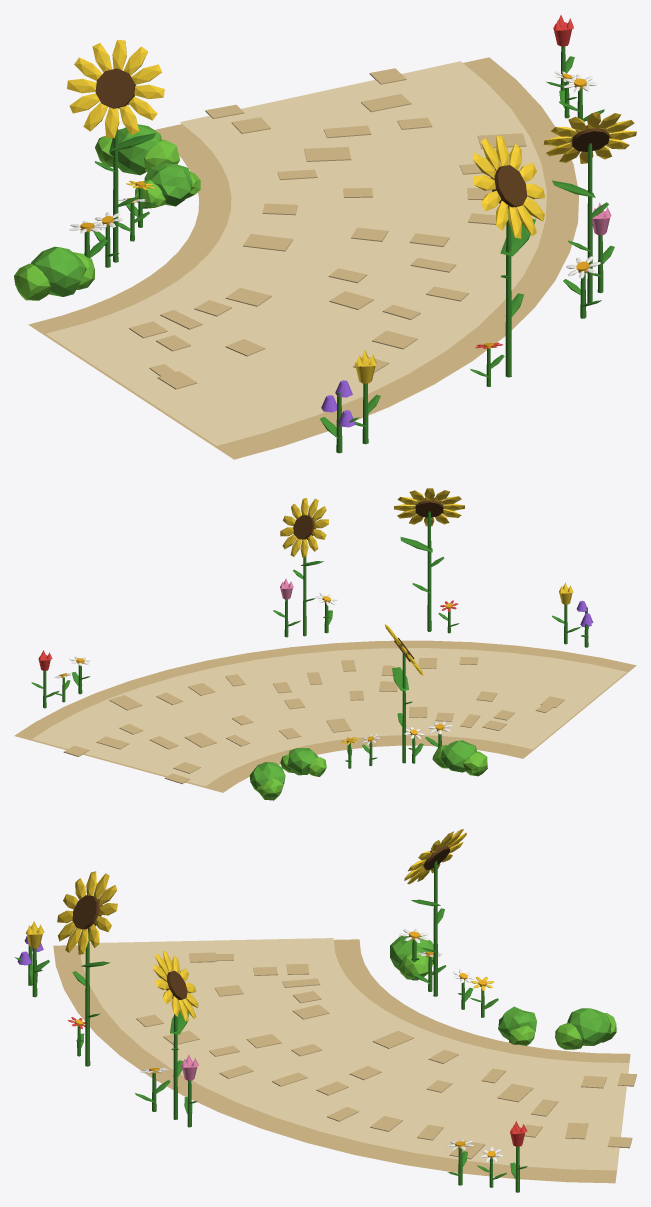
The model's file is camino_curvo.glb.
The picture shows the model from 3 angles, top to bottom: view 1: azimuth 30°, elevation 25°; view 2: azimuth 150°, elevation 25°; view 3: azimuth 270°, elevation 25°; orthographic projection. The views are drawn at different scales.
Visible parts, largest first — view 1: suelo, borde, adoquines, bola_1 (×3), centro (×3), tallo (×3), bola_2 (×2); view 2: suelo, borde, adoquines, bola_1 (×3), tallo, bola_2; view 3: suelo, borde, adoquines, bola_1 (×3), tallo (×2), centro, bola_3, bola_2.
Boxes of the visible parts, box(x1,y1,x2,y2) form: suelo: box(46, 61, 546, 445); borde: box(28, 57, 578, 459); adoquines: box(129, 68, 526, 389); bola_1 (×3): box(31, 124, 192, 296); centro (×3): box(95, 68, 609, 208); tallo (×3): box(113, 128, 592, 377); bola_2 (×2): box(14, 139, 179, 300); suelo: box(32, 648, 626, 786); borde: box(14, 640, 636, 792); adoquines: box(63, 656, 564, 784); bola_1 (×3): box(249, 740, 477, 792); tallo: box(427, 511, 431, 631); bola_2: box(463, 751, 487, 776); suelo: box(80, 938, 629, 1170); borde: box(53, 939, 630, 1183); adoquines: box(136, 952, 636, 1159); bola_1 (×3): box(390, 934, 611, 1045); tallo (×2): box(85, 861, 437, 1066); centro: box(72, 895, 102, 930); bola_3: box(398, 951, 433, 980); bola_2: box(555, 1023, 583, 1049).
Bounding box in the file's own units: 10.45 × 3.65 × 10.77.
